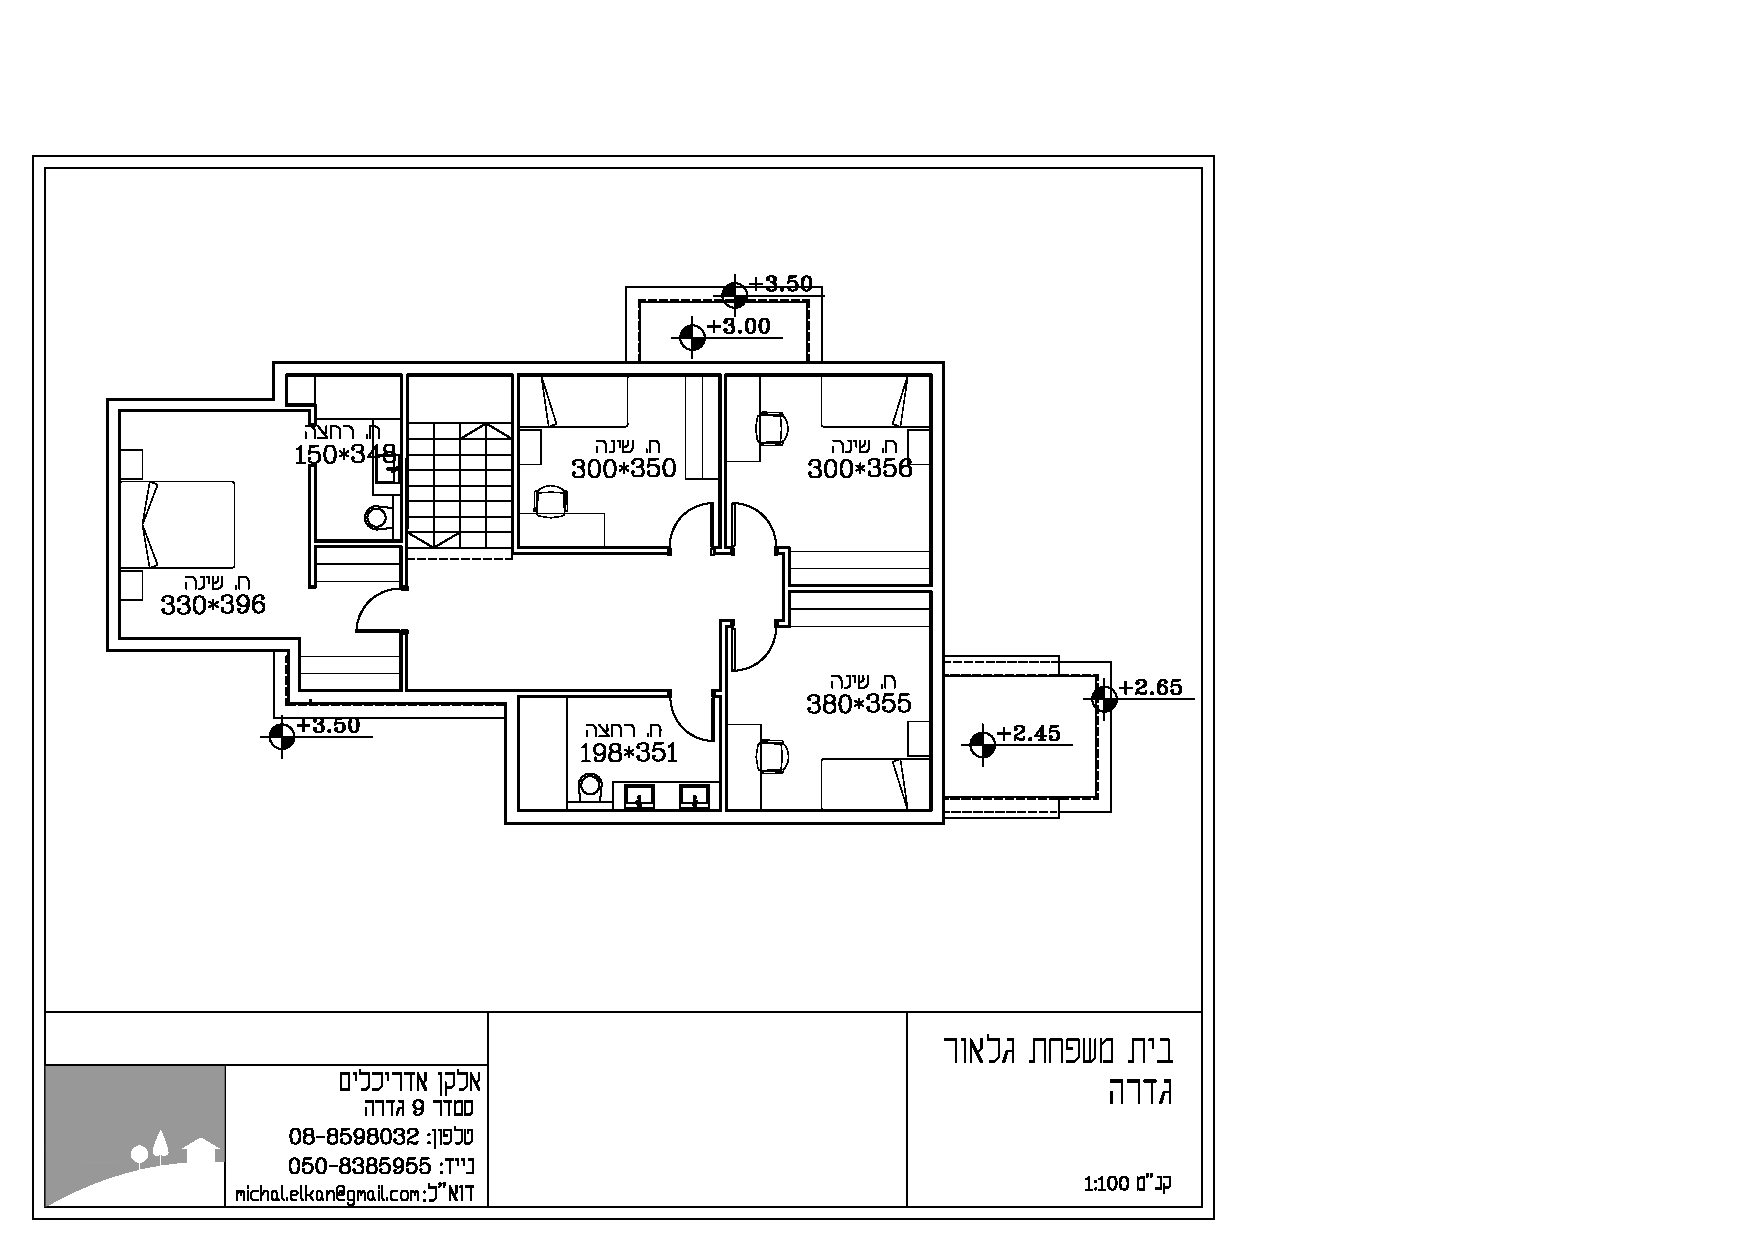door: (349, 584, 395, 648), (729, 494, 785, 544), (730, 635, 785, 680), (667, 499, 713, 542), (671, 701, 713, 746)
